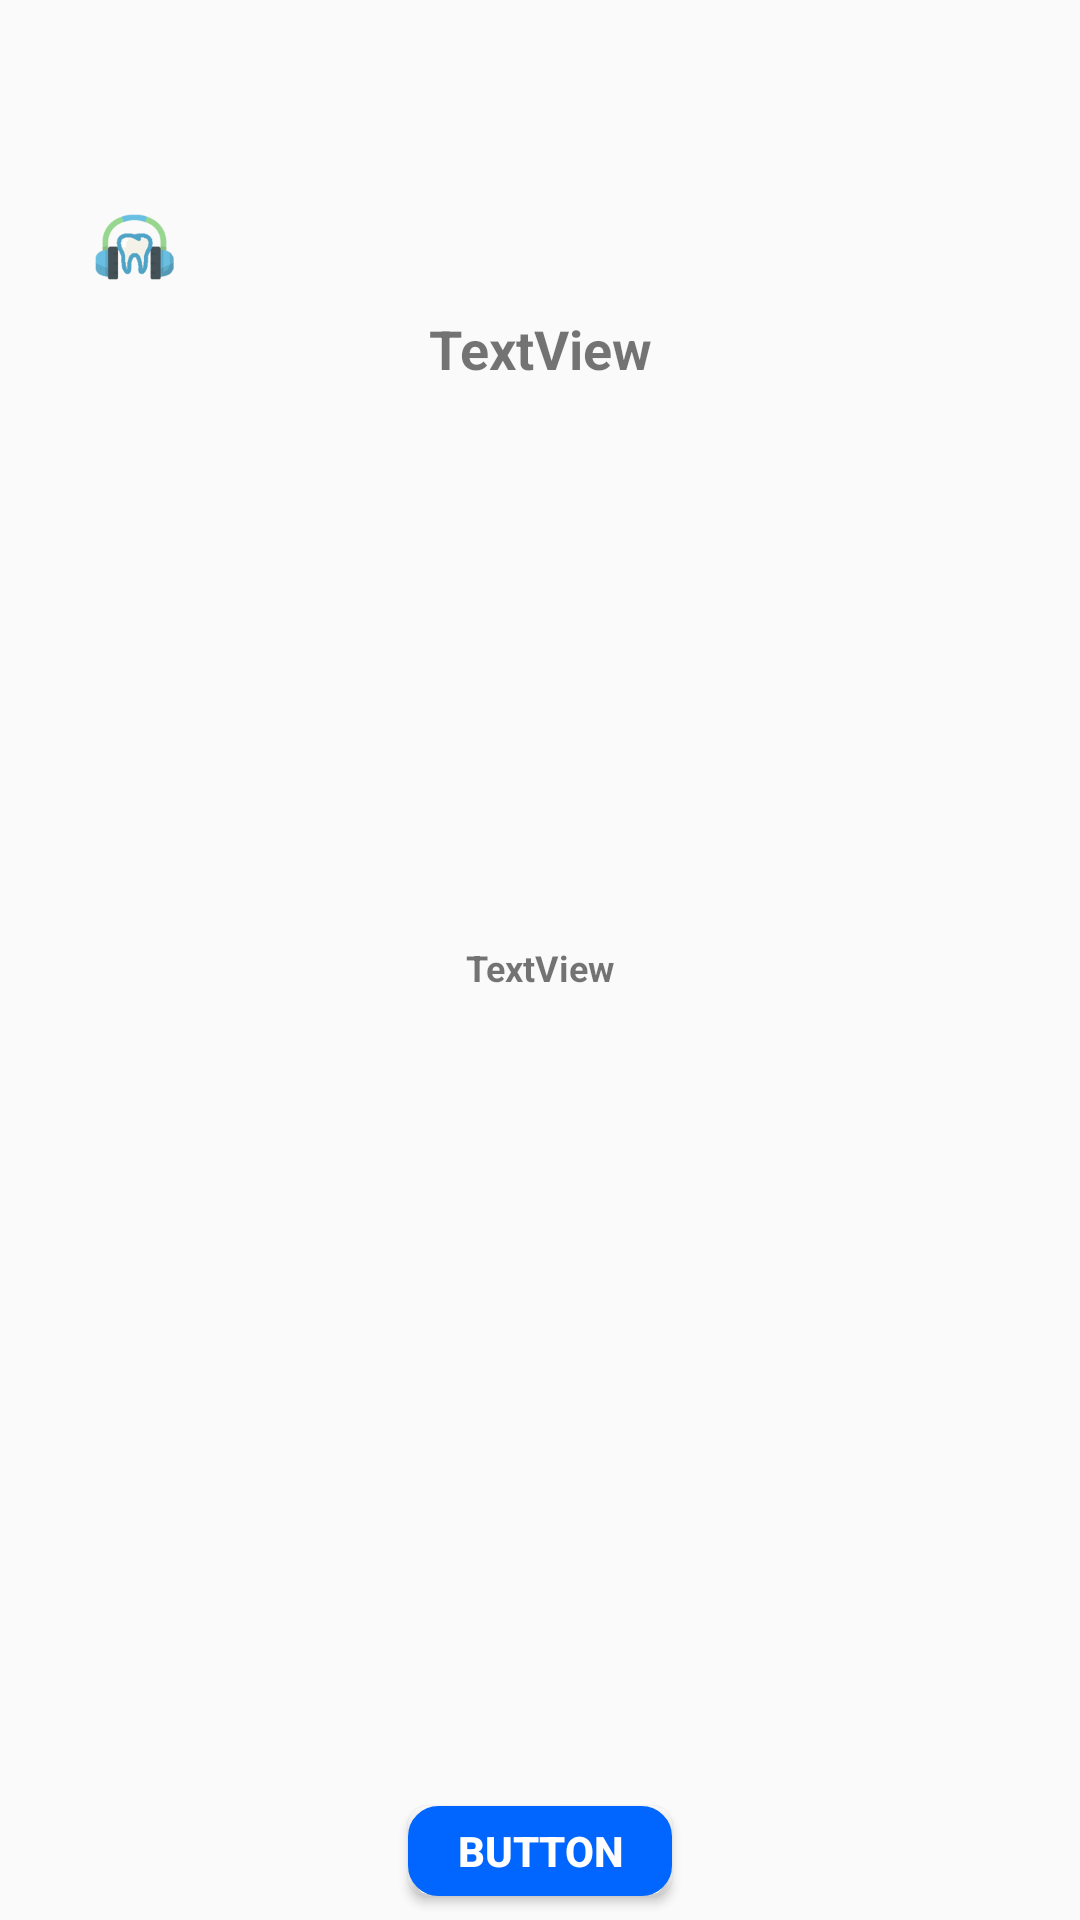

Screen size 1080px x 1920px. Icon name, then its box in pixels as region(x1, y1, x2, y2):
tooth: region(95, 214, 174, 280)
